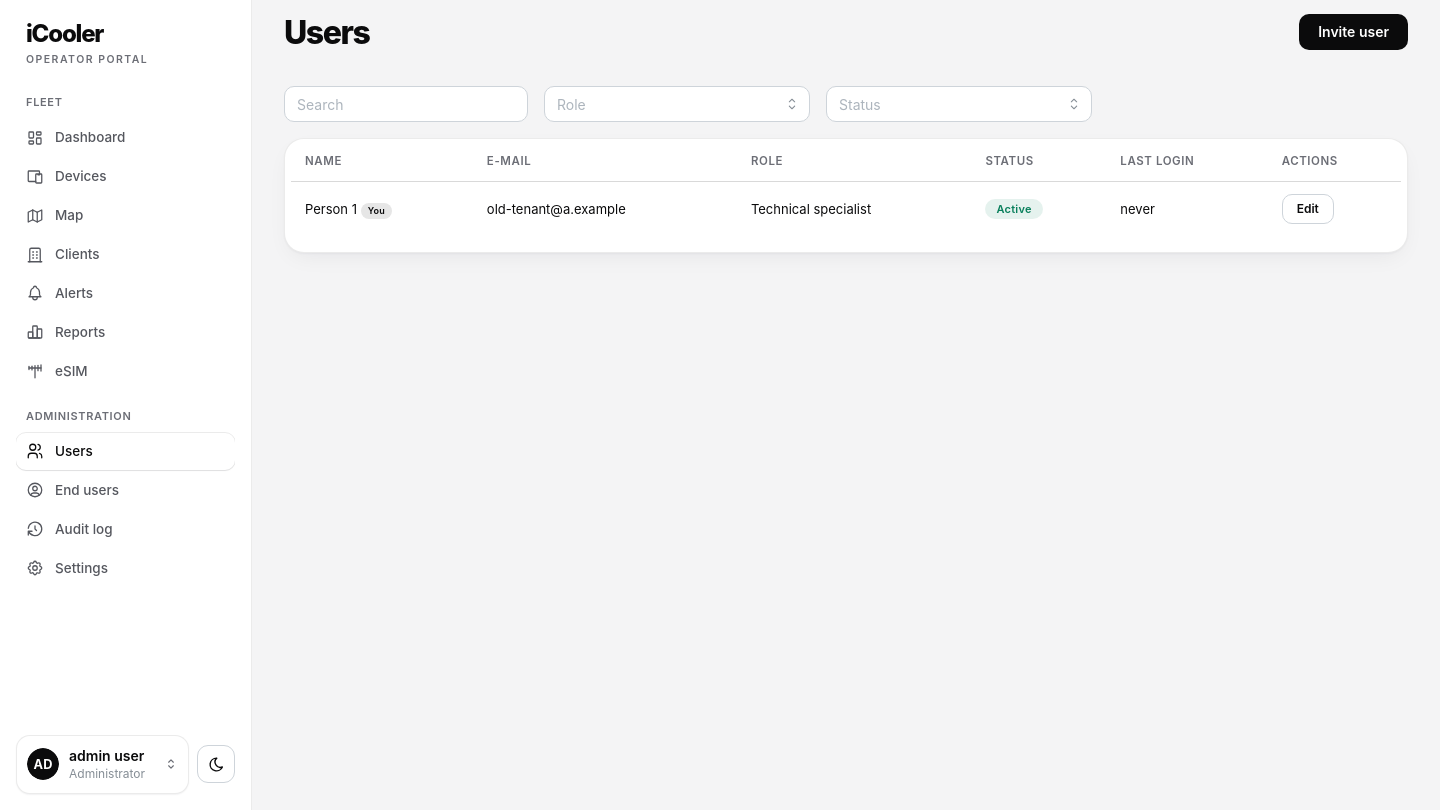
Test: смена сессии и ошибки › вход другим пользователем: данные прежнего не показываются ни на миг
Expected: the text "old-tenant@a.example" is shown, [473,181,737,236]
Click the button with aria-label "Profile": (102, 764) [16,735,189,794]
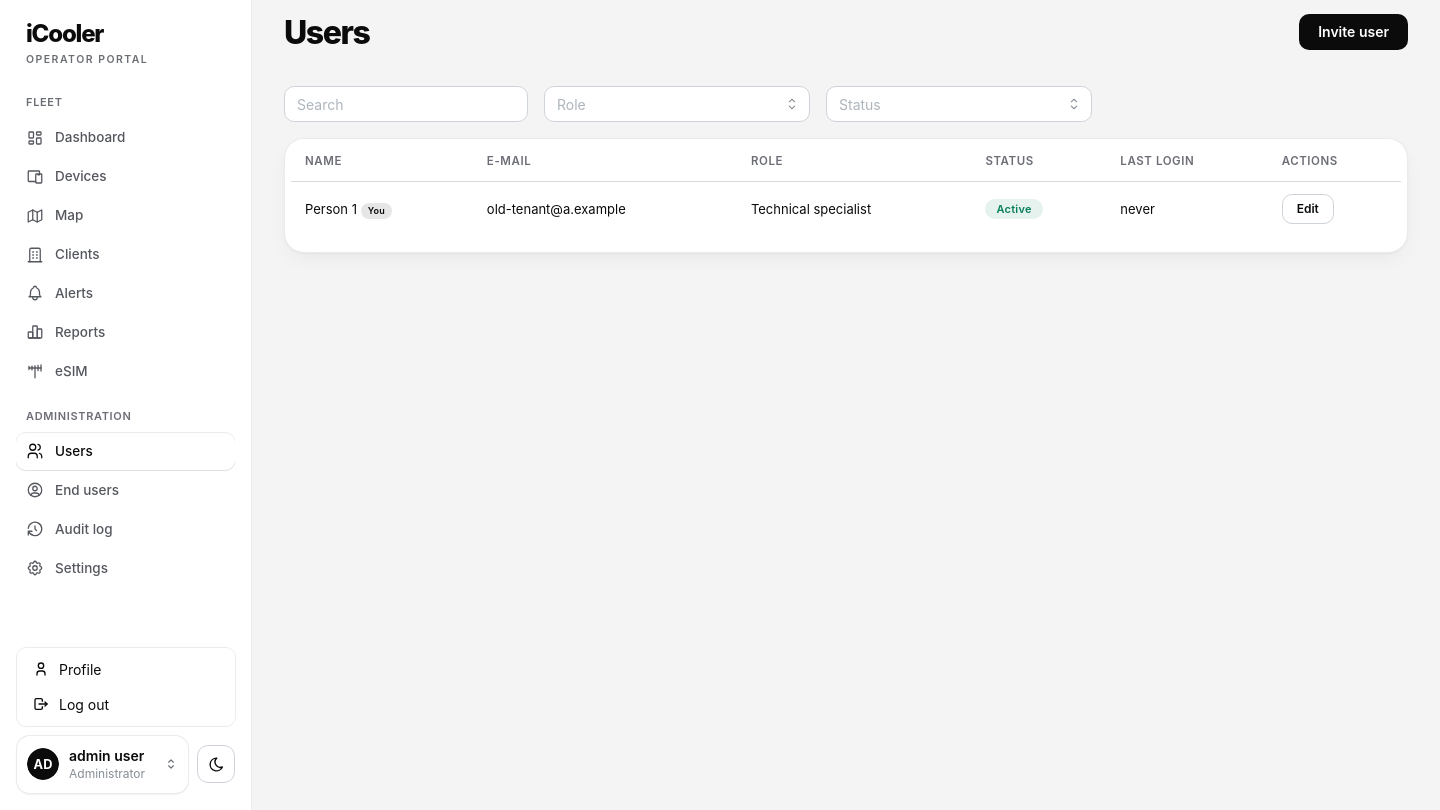
Click the menu item "Log out": (126, 704) [21,687,231,722]
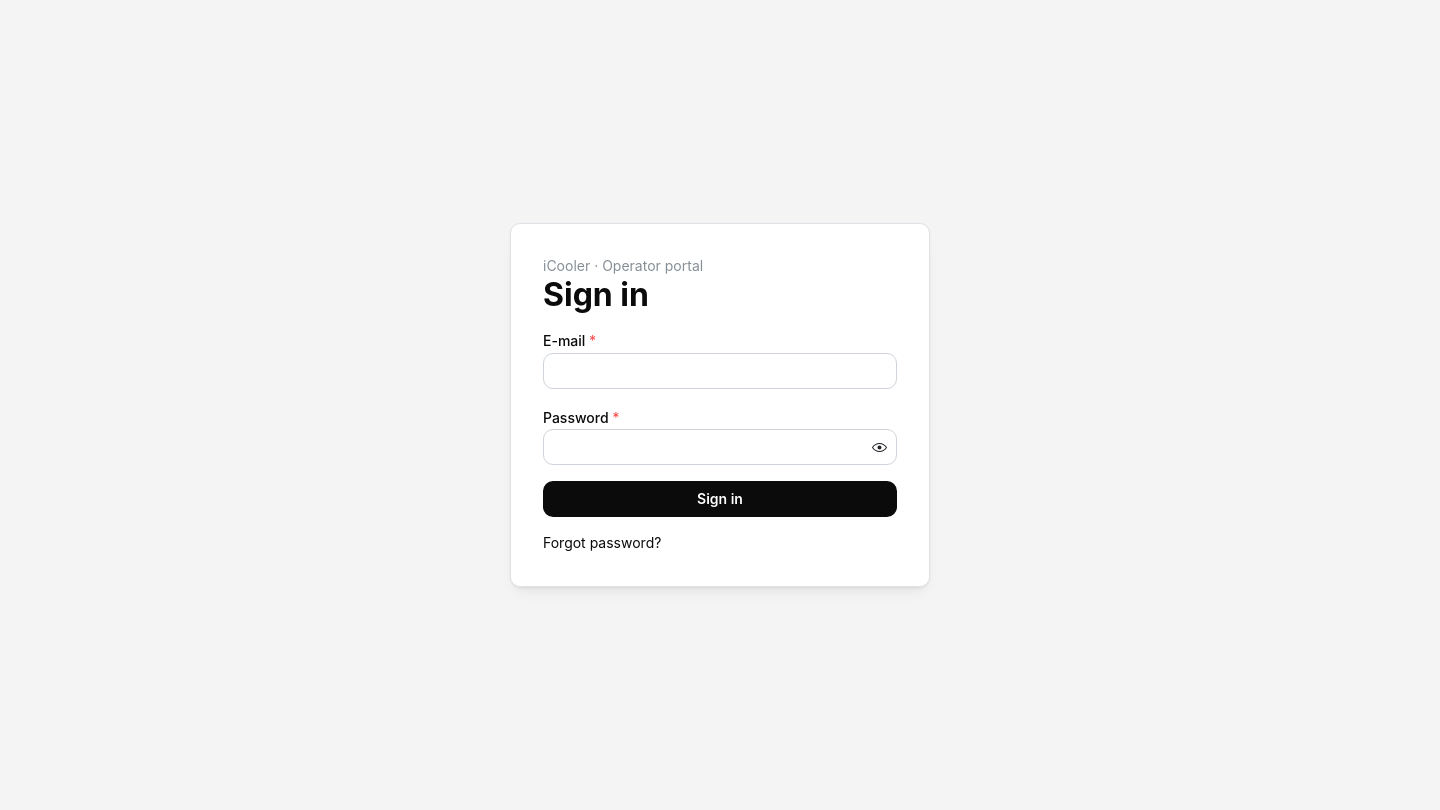
In the field labelled "E-mail *": (720, 371) [543,353,897,389], type "b@b.example"
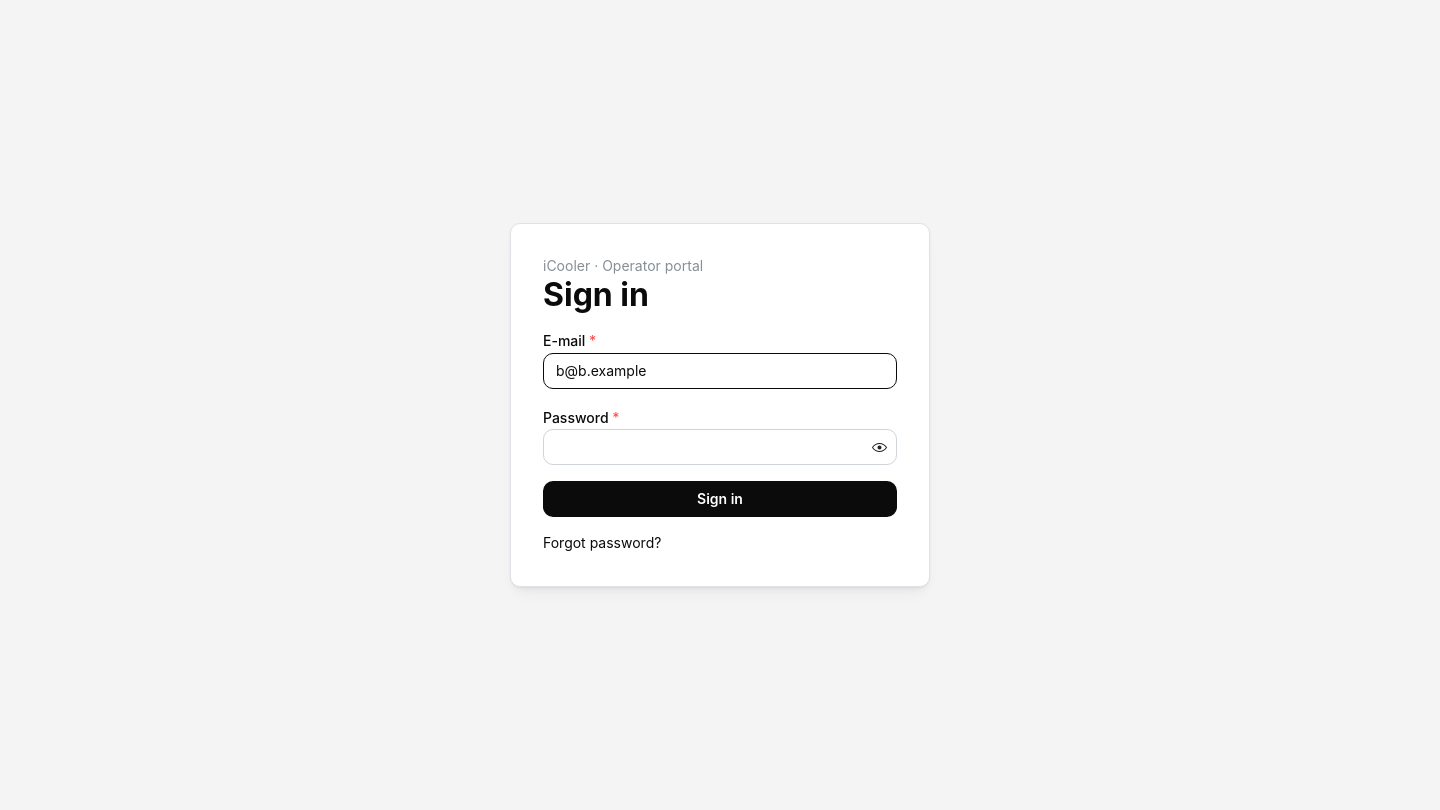
In the password field labelled "Password *": (720, 447) [544,430,896,464], type "password of b 1"
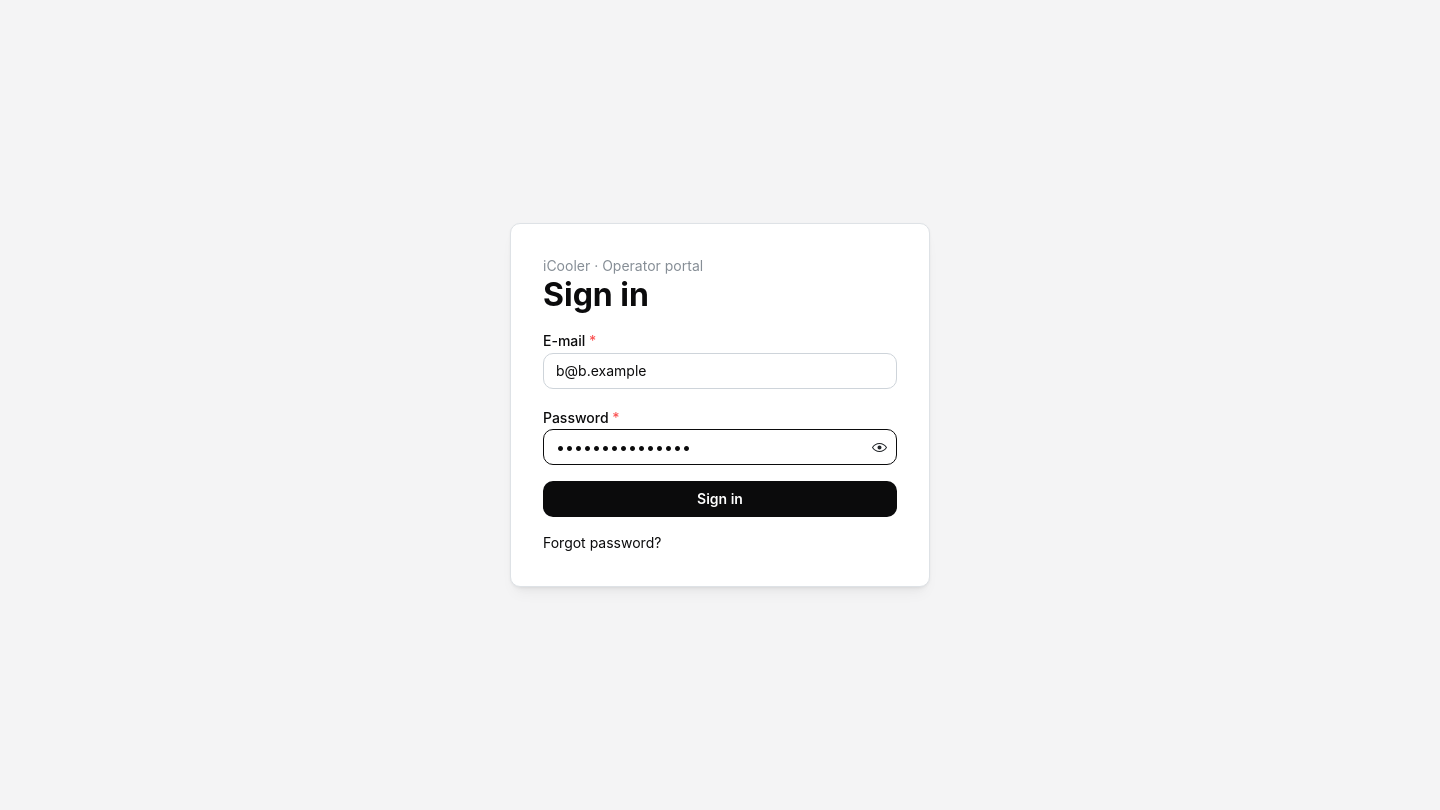
Click the button "Sign in": (720, 499) [543,481,897,517]
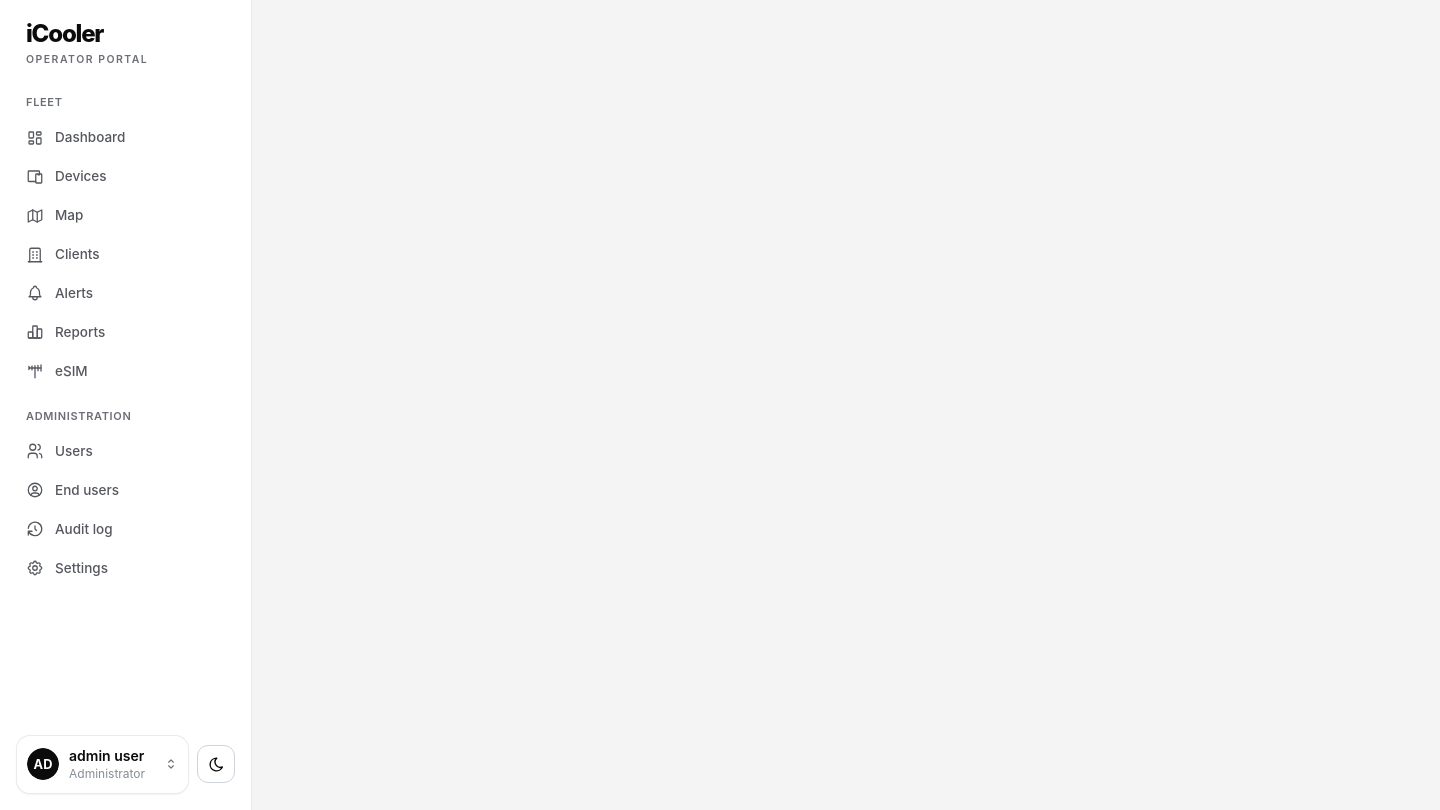
Expected: the navigation bar named "Sections" is shown, [0,0,252,809]
Click the link "Users": (59, 451) [26,442,93,460]
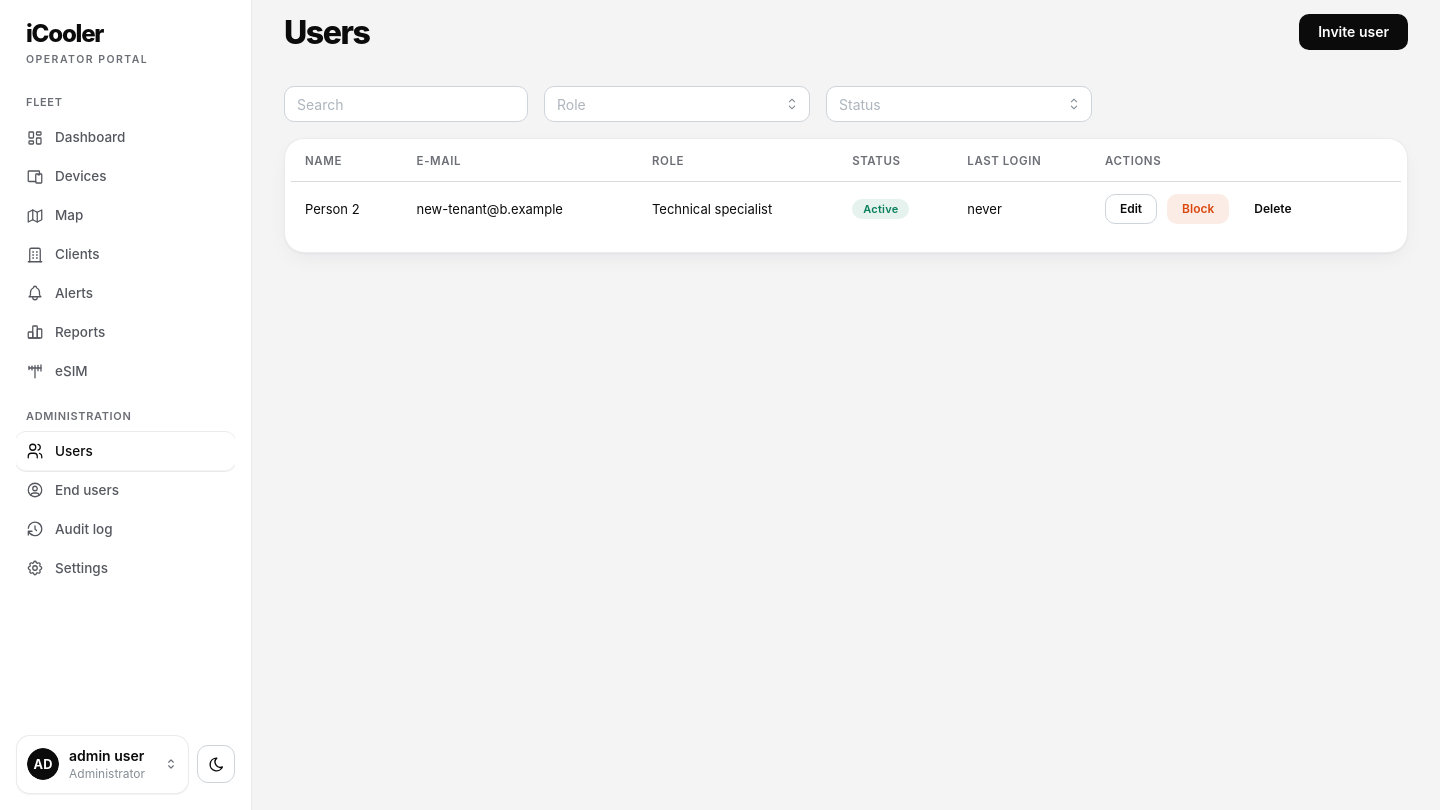
Expected: the text "old-tenant@a.example" is not shown
Expected: the text "new-tenant@b.example" is shown, [403,181,638,236]
